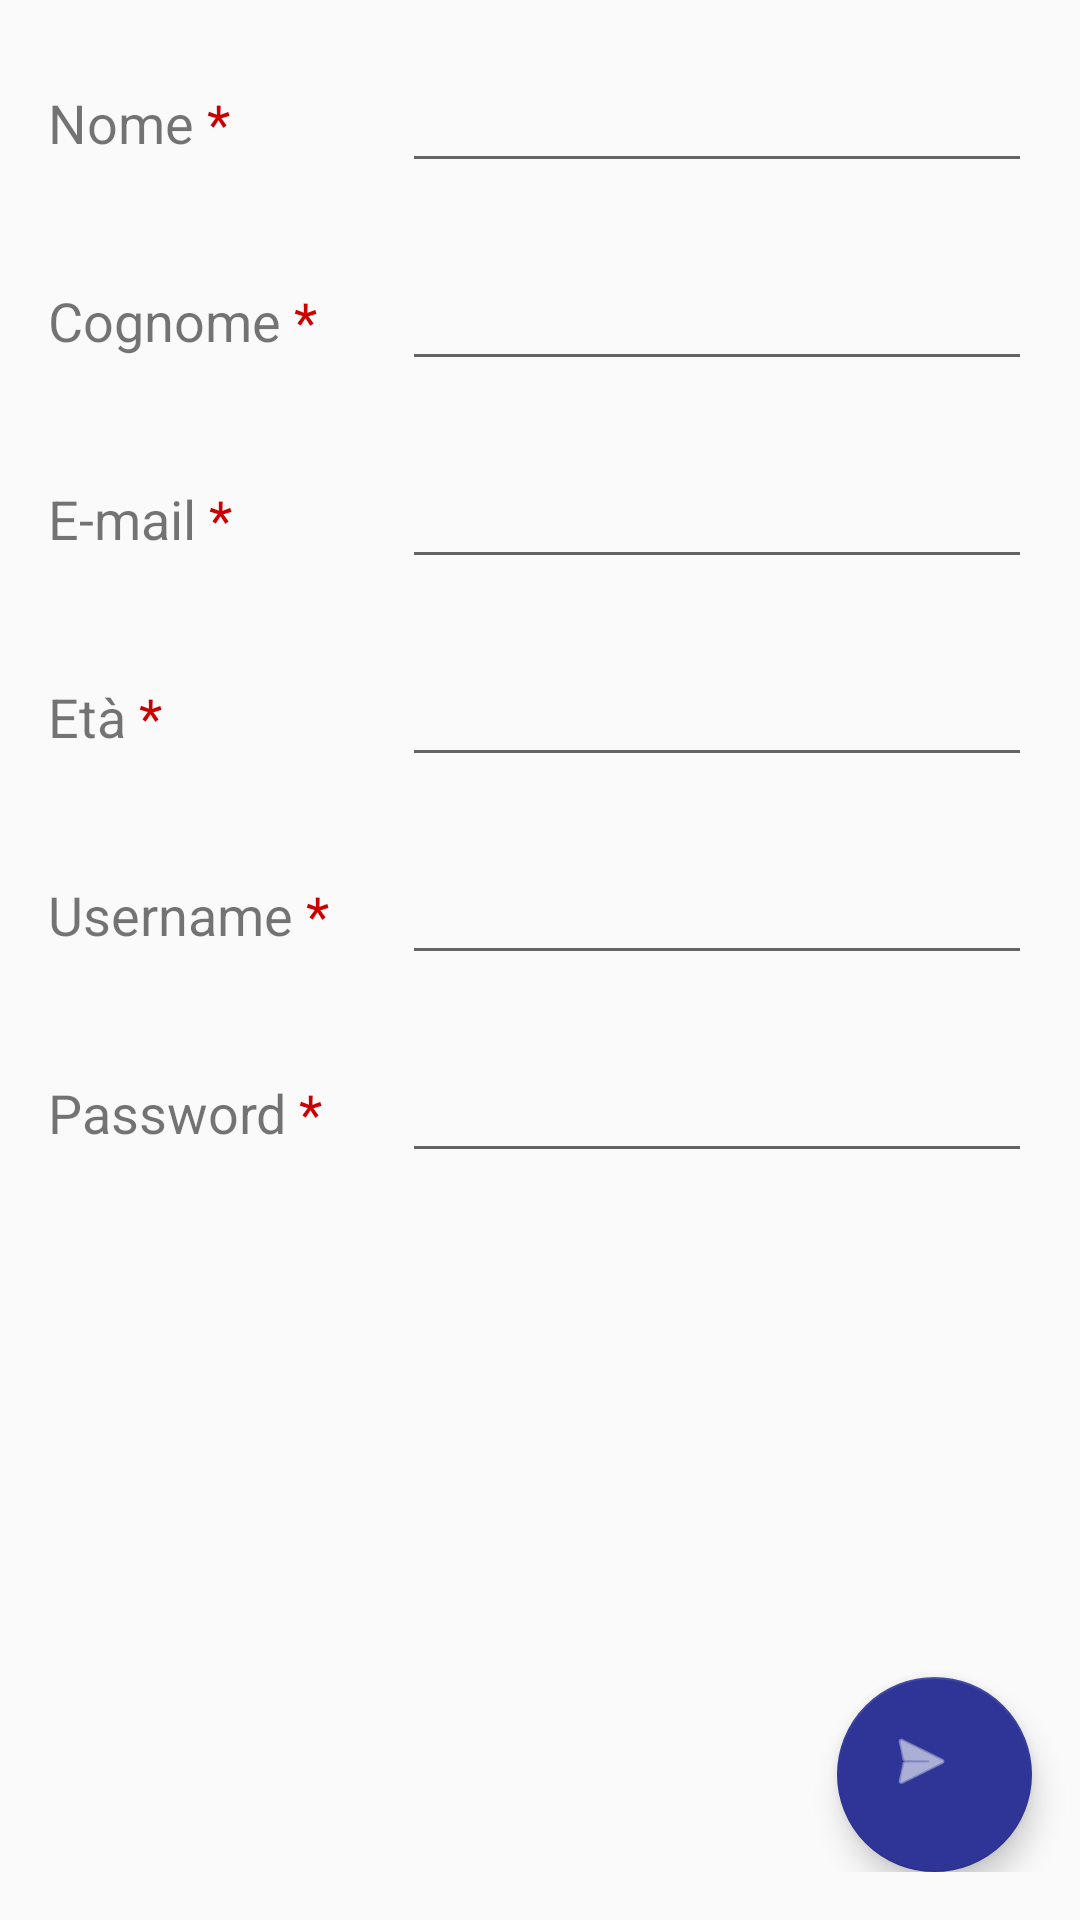

Icons on this 1080px×1920px Android screen, each with its box as (x1, y1, x2, y2):
send: (837, 1677, 1032, 1872)
